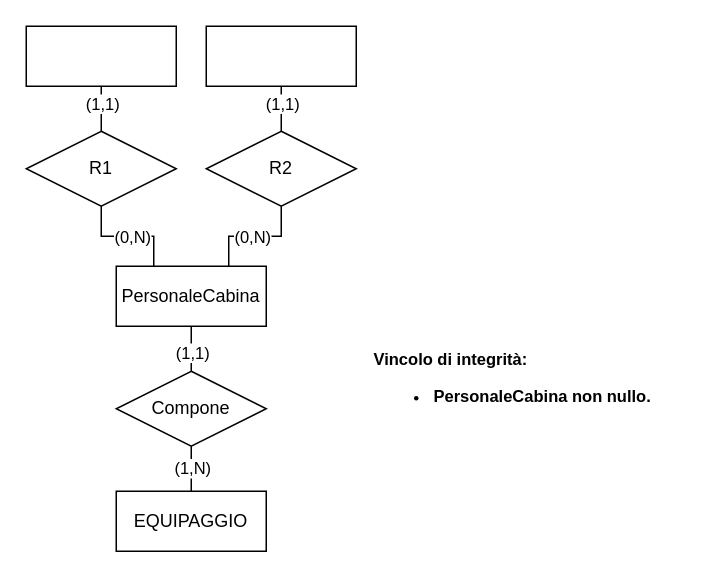
Some shapes in this 713 by 578 pixel diagram are drawn without their labels. Each missing label, with the centre of its shape:
"Hostess" belongs at pixel 100 55.
"Steward" belongs at pixel 280 55.
